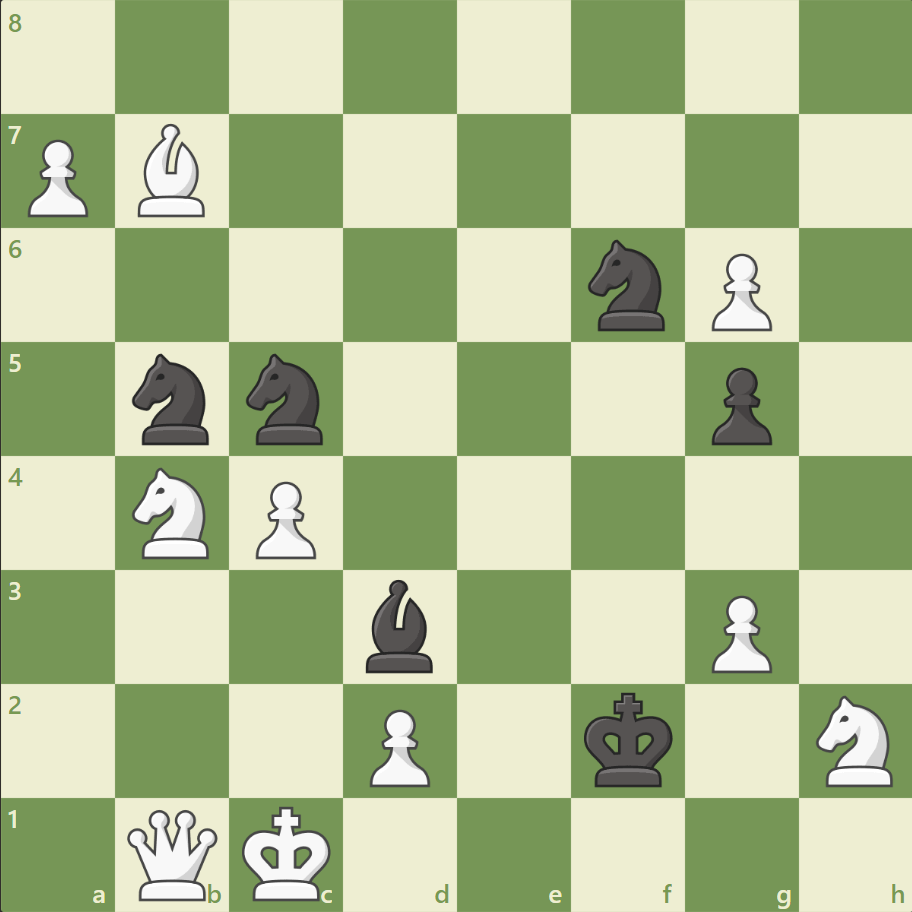B: (131, 120, 215, 222)
K: (238, 798, 338, 906)
N: (124, 461, 222, 564), (806, 688, 903, 791)
P: (20, 132, 95, 223), (701, 246, 776, 337), (247, 473, 322, 564), (701, 586, 776, 677), (361, 700, 435, 791)
Q: (124, 804, 223, 903)
b: (358, 574, 442, 676)
k: (579, 685, 679, 793)
n: (124, 348, 222, 450), (579, 234, 676, 337), (238, 348, 335, 450)
p: (701, 359, 776, 450)
